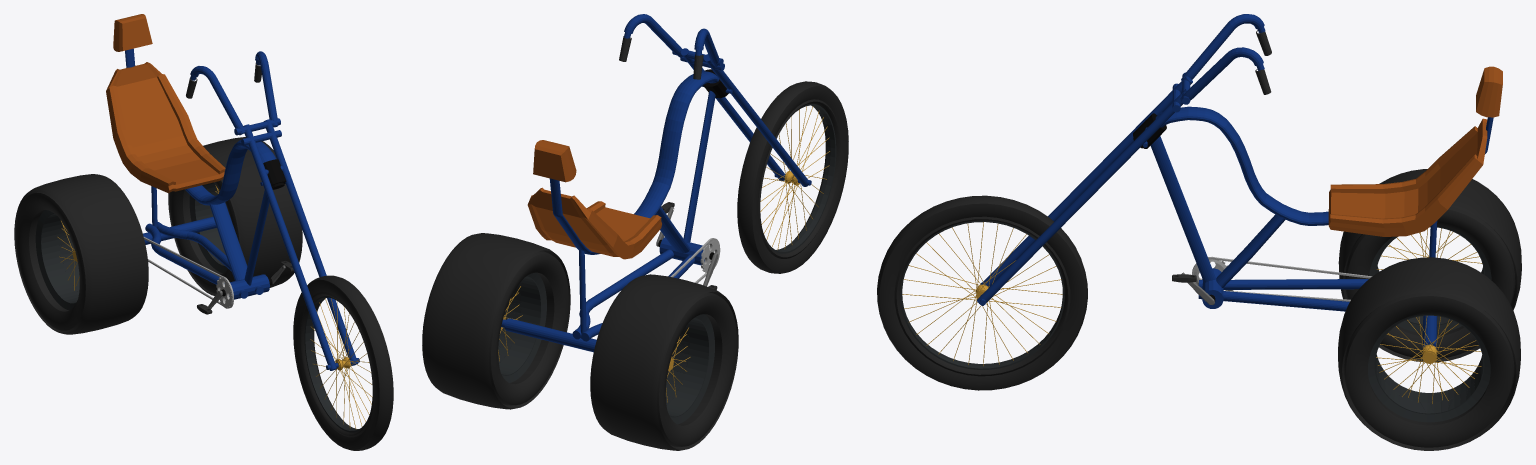
File: basikal_trike_chopper.glb
3 views of the same model, side by side, from view 1: azimuth 30°, elevation 25°; view 2: azimuth 150°, elevation 25°; view 3: azimuth 270°, elevation 25° (orthographic). The views are drawn at different scales.
Parts seen in each view (by area): view 1: basikal_trike_chopper; view 2: basikal_trike_chopper; view 3: basikal_trike_chopper.
Part boxes in pixels (bbox=[...]): basikal_trike_chopper: bbox=[14, 14, 393, 450]; basikal_trike_chopper: bbox=[422, 14, 848, 450]; basikal_trike_chopper: bbox=[877, 14, 1521, 450].
Bounding box in the file's own units: 0.7261 × 0.9699 × 1.58.
